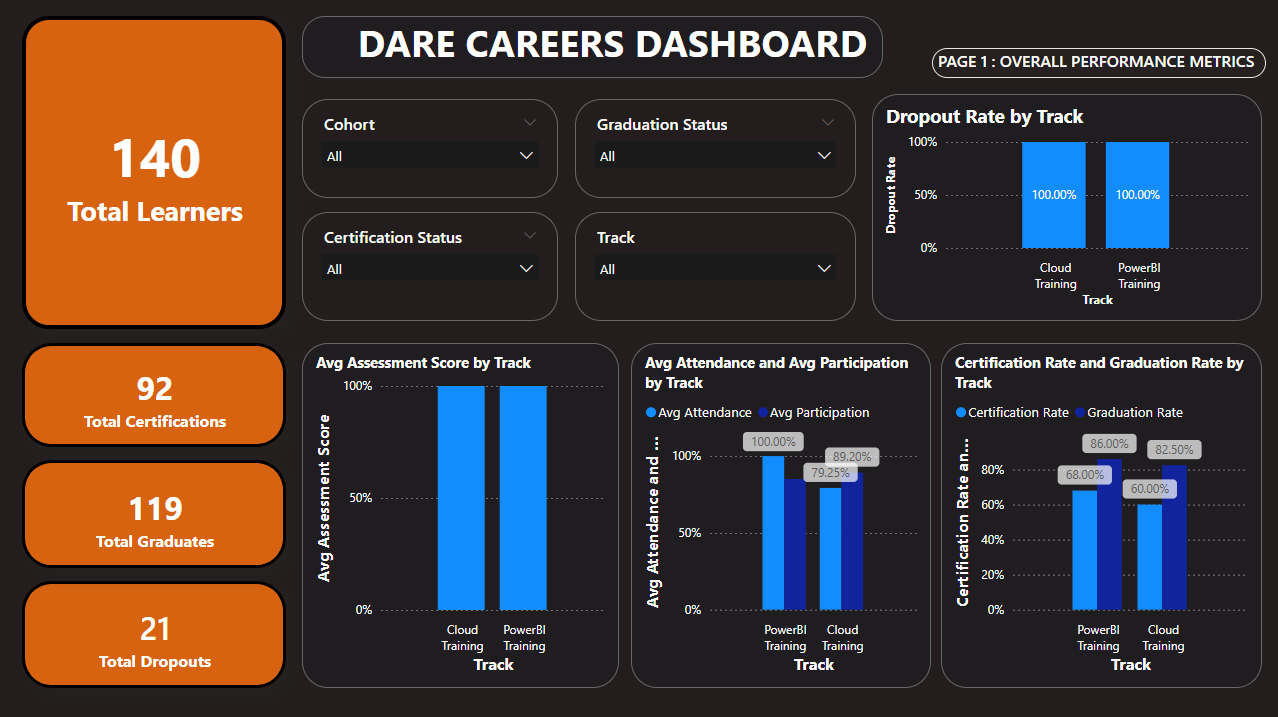

This screenshot's page, from the dashboard's own definition file:
{"tool":"powerbi","page":{"name":"Overall Performance Metrics ","canvas":[1280,720],"ordinal":0},"visuals":[{"type":"cardVisual","fields":{"Data":["_Measures.Total Certifications"]},"box":[23.2,344,264.1,104.3],"z":0},{"type":"cardVisual","fields":{"Data":["_Measures.Total Dropouts"]},"box":[23.2,581.5,264.1,107.7],"z":1000},{"type":"cardVisual","fields":{"Data":["_Measures.Total Graduations"]},"box":[23.2,461,264.1,107.7],"z":2000},{"type":"cardVisual","fields":{"Data":["_Measures.Total Learners"]},"box":[23.2,17.4,264.1,312.8],"z":3000},{"type":"hundredPercentStackedColumnChart","fields":{"Category":["DimLearner.Track"],"Y":["_Measures.Dropout Rate"]},"box":[873.4,95,389.2,227],"z":4000},{"type":"slicer","fields":{"Values":["DimLearner.Track"]},"box":[575.7,213.1,281.5,108.9],"z":5000},{"type":"slicer","fields":{"Values":["Fact Status.Graduation Status"]},"box":[575.7,99.6,281.5,99.6],"z":6000},{"type":"slicer","fields":{"Values":["Fact Status.Certification Status"]},"box":[303.5,213.1,256,108.9],"z":7000},{"type":"slicer","fields":{"Values":["DimLearner.Cohort "]},"box":[303.5,99.6,256,99.6],"z":8000},{"type":"textbox","box":[302.9,17.1,581.4,61.4],"z":9000},{"type":"lineClusteredColumnComboChart","fields":{"Y":["_Measures.Certification Rate","_Measures.Graduation Rate"],"Category":["DimLearner.Track"]},"box":[941.8,344,320.9,345.2],"z":10000},{"type":"lineClusteredColumnComboChart","fields":{"Y":["_Measures.Avg Attendance","_Measures.Avg Participation"],"Category":["DimLearner.Track"]},"box":[632.5,344,300,345.2],"z":11000},{"type":"hundredPercentStackedColumnChart","fields":{"Y":["_Measures.Average Assessment Score"],"Category":["DimLearner.Track"]},"box":[303.5,344,316.2,345.2],"z":12000},{"type":"textbox","box":[932.9,48.6,334.3,30],"z":13000}]}

Visuals, with their boxes in screenshot pixels (x1, y1, x2, y2), scaled from the page's 1280x720 canvas onto the 1278x717 screenshot:
cardVisual - _Measures.Total Certifications: 23:343:287:446
cardVisual - _Measures.Total Dropouts: 23:579:287:686
cardVisual - _Measures.Total Graduations: 23:459:287:566
cardVisual - _Measures.Total Learners: 23:17:287:329
hundredPercentStackedColumnChart - DimLearner.Track x _Measures.Dropout Rate: 872:95:1261:321
slicer - DimLearner.Track: 575:212:856:321
slicer - Fact Status.Graduation Status: 575:99:856:198
slicer - Fact Status.Certification Status: 303:212:559:321
slicer - DimLearner.Cohort : 303:99:559:198
textbox: 302:17:883:78
lineClusteredColumnComboChart - _Measures.Certification Rate x _Measures.Graduation Rate: 940:343:1261:686
lineClusteredColumnComboChart - _Measures.Avg Attendance x _Measures.Avg Participation: 632:343:931:686
hundredPercentStackedColumnChart - _Measures.Average Assessment Score x DimLearner.Track: 303:343:619:686
textbox: 931:48:1265:78
